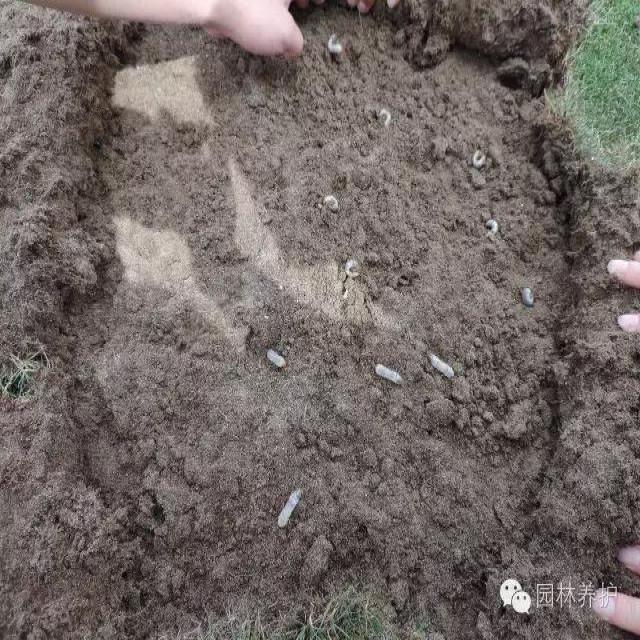Grub-Adult-: (366, 356, 414, 396), (270, 479, 305, 533), (419, 342, 464, 382), (316, 185, 348, 221), (260, 338, 289, 372), (372, 102, 397, 139), (483, 207, 505, 248), (467, 146, 493, 180), (514, 282, 540, 308), (342, 254, 366, 282), (327, 30, 347, 60)
